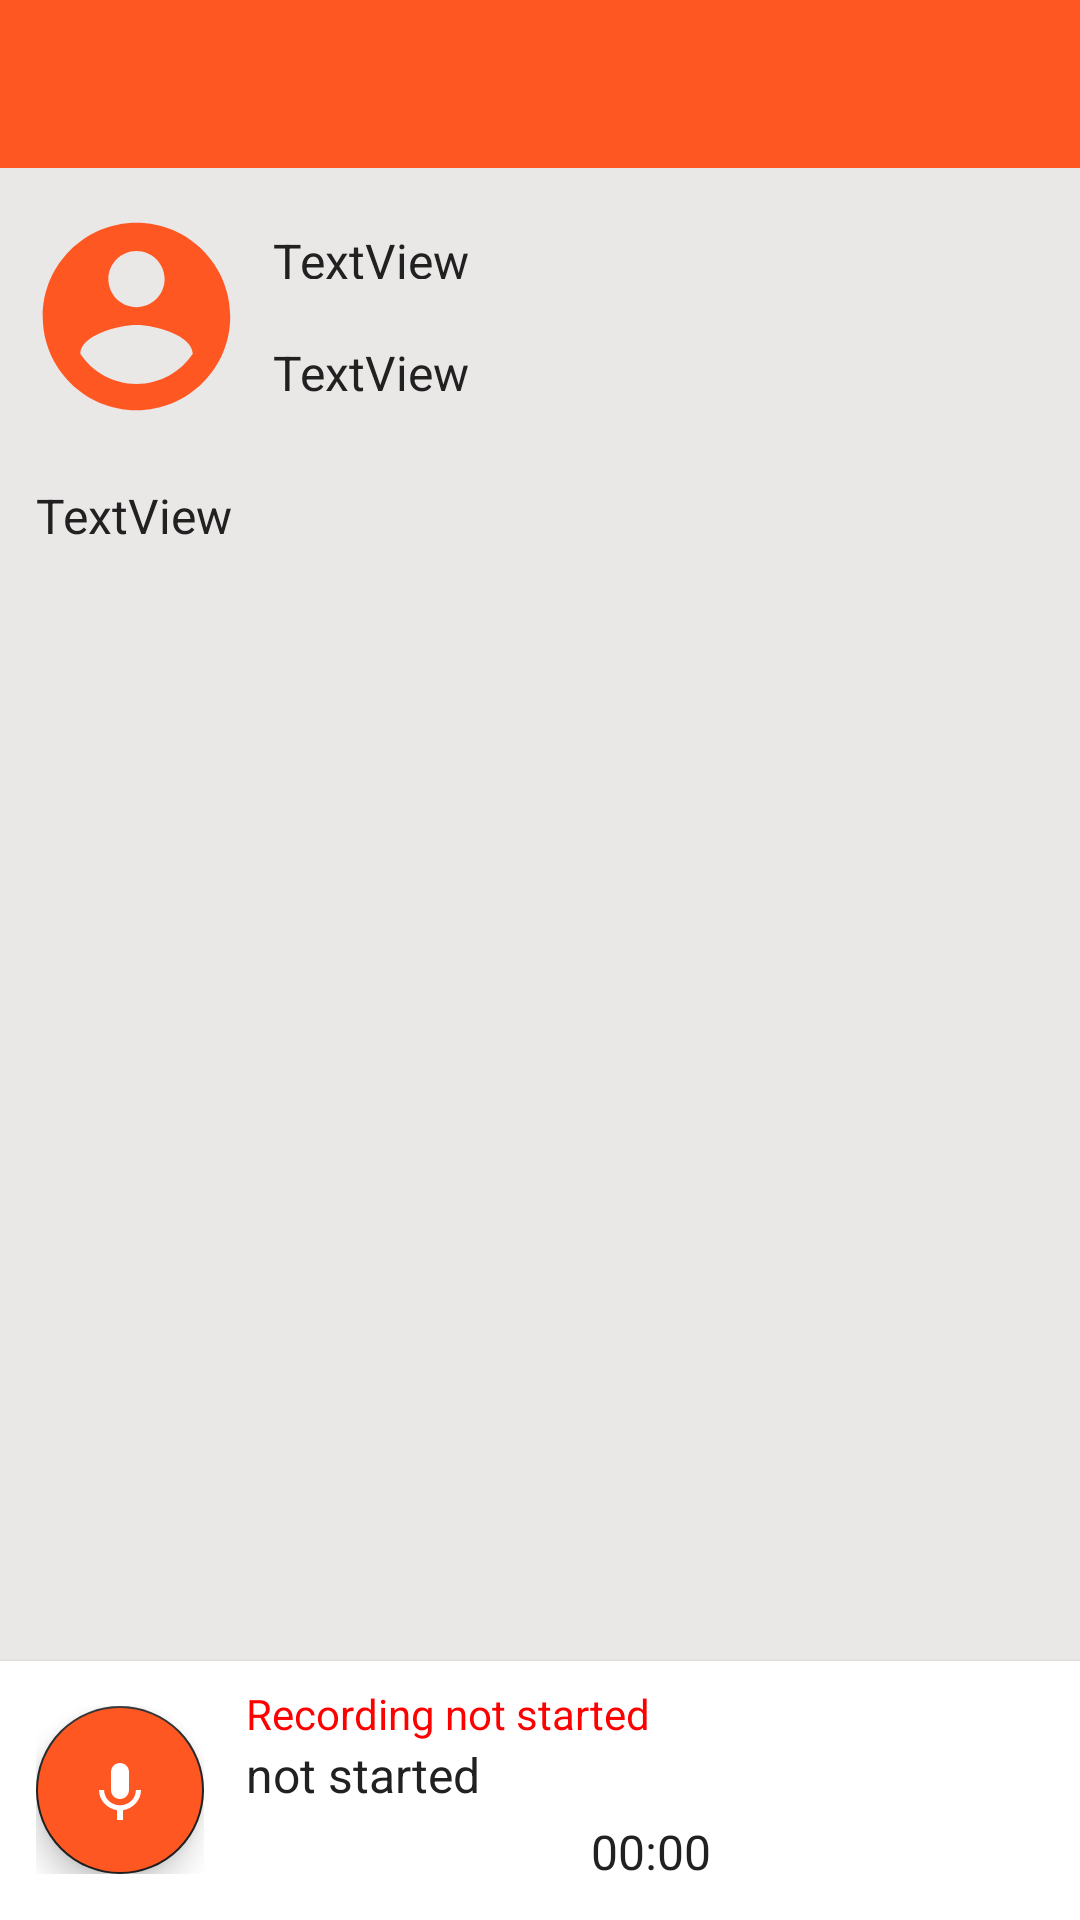

Where icons sit on this 1080x1920 app screen, as (x1, y1, x2, y2):
user place holder: (42, 222, 231, 411)
